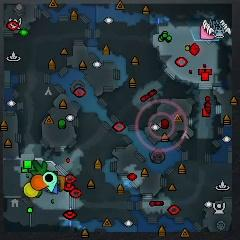Other: (136, 99, 187, 152)
p1: (53, 184, 58, 194)
p2: (47, 174, 58, 192)
p2Clone: (43, 172, 54, 185)
p4: (24, 182, 38, 197)
p5: (31, 175, 48, 190)
x1: (200, 25, 214, 40)
x4: (32, 160, 47, 175)
x5: (57, 175, 66, 192)
